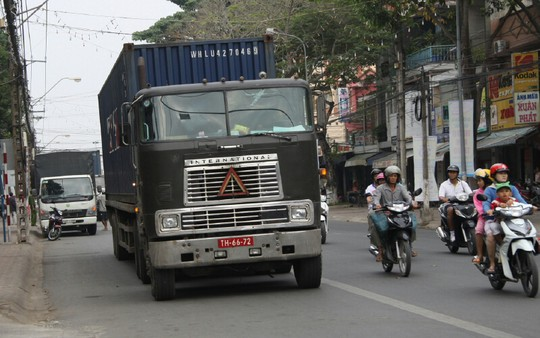plate: (217, 235, 254, 247)
